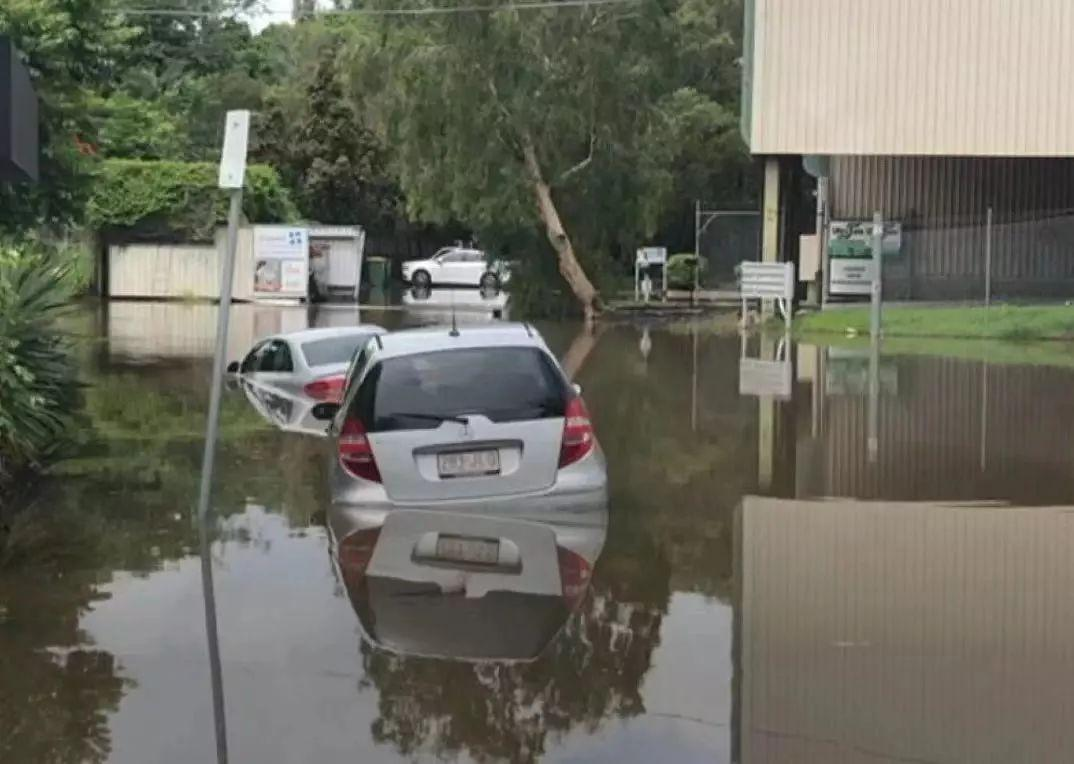water: (0, 285, 1071, 759)
